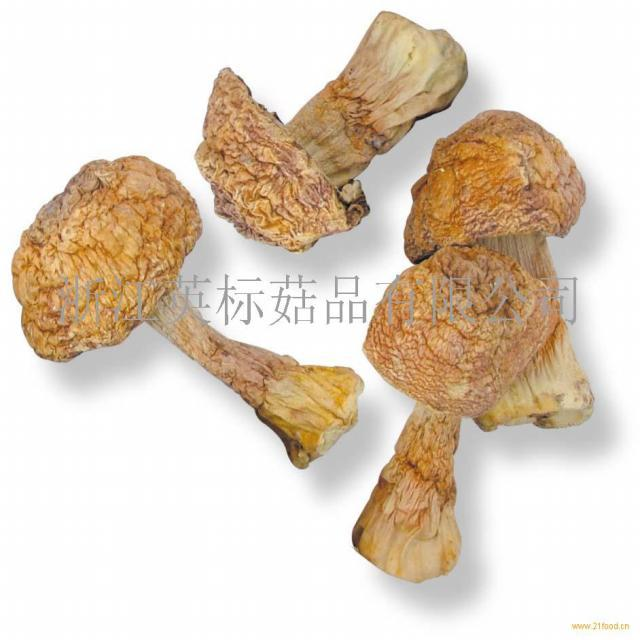Agaricus blazei Murill: (18, 157, 364, 466), (193, 12, 469, 257), (405, 110, 605, 425), (367, 249, 542, 580)
